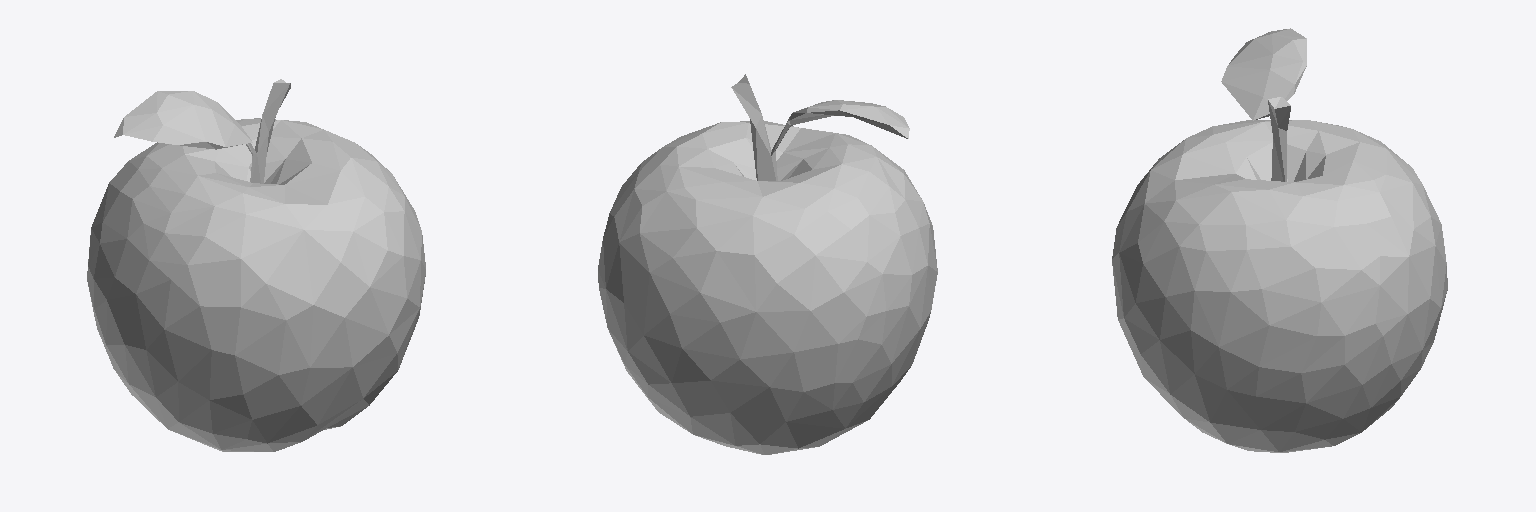
The model's file is polished_apple_glossy_0518183850_texture.obj.
3 views of the same model, side by side, from view 1: azimuth 30°, elevation 25°; view 2: azimuth 150°, elevation 25°; view 3: azimuth 270°, elevation 25° (orthographic).
Visible parts, largest first — view 1: Mesh1; view 2: Mesh1; view 3: Mesh1.
Boxes of the visible parts, x1,y1,x2,y2 form: Mesh1: [87, 79, 425, 451]; Mesh1: [598, 74, 937, 454]; Mesh1: [1112, 28, 1447, 452].
Bounding box in the file's own units: 1.73 × 2.01 × 1.74.